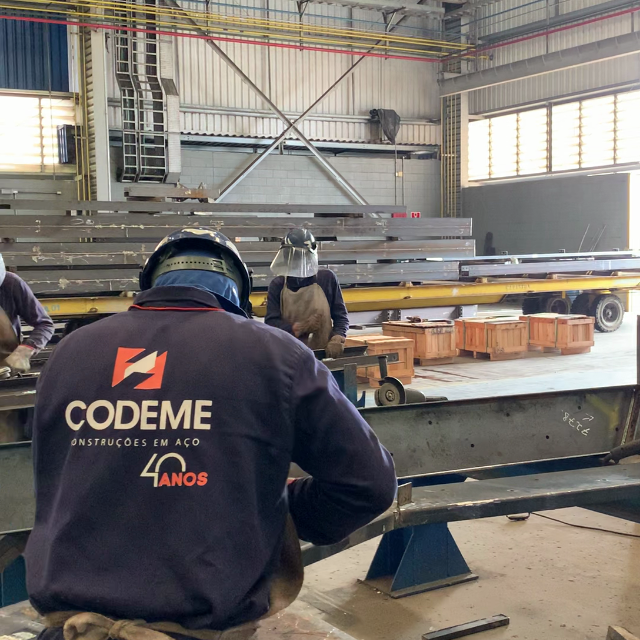face-shield: (267, 246, 318, 280)
glove: (5, 342, 33, 374), (323, 336, 344, 358)
helmet: (135, 228, 252, 299), (282, 227, 317, 250)
person: (22, 226, 400, 638), (265, 227, 351, 360), (1, 254, 56, 374)
